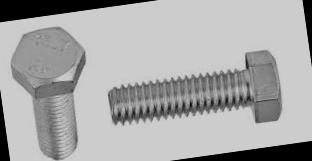hexagonal: (5, 22, 90, 100)
